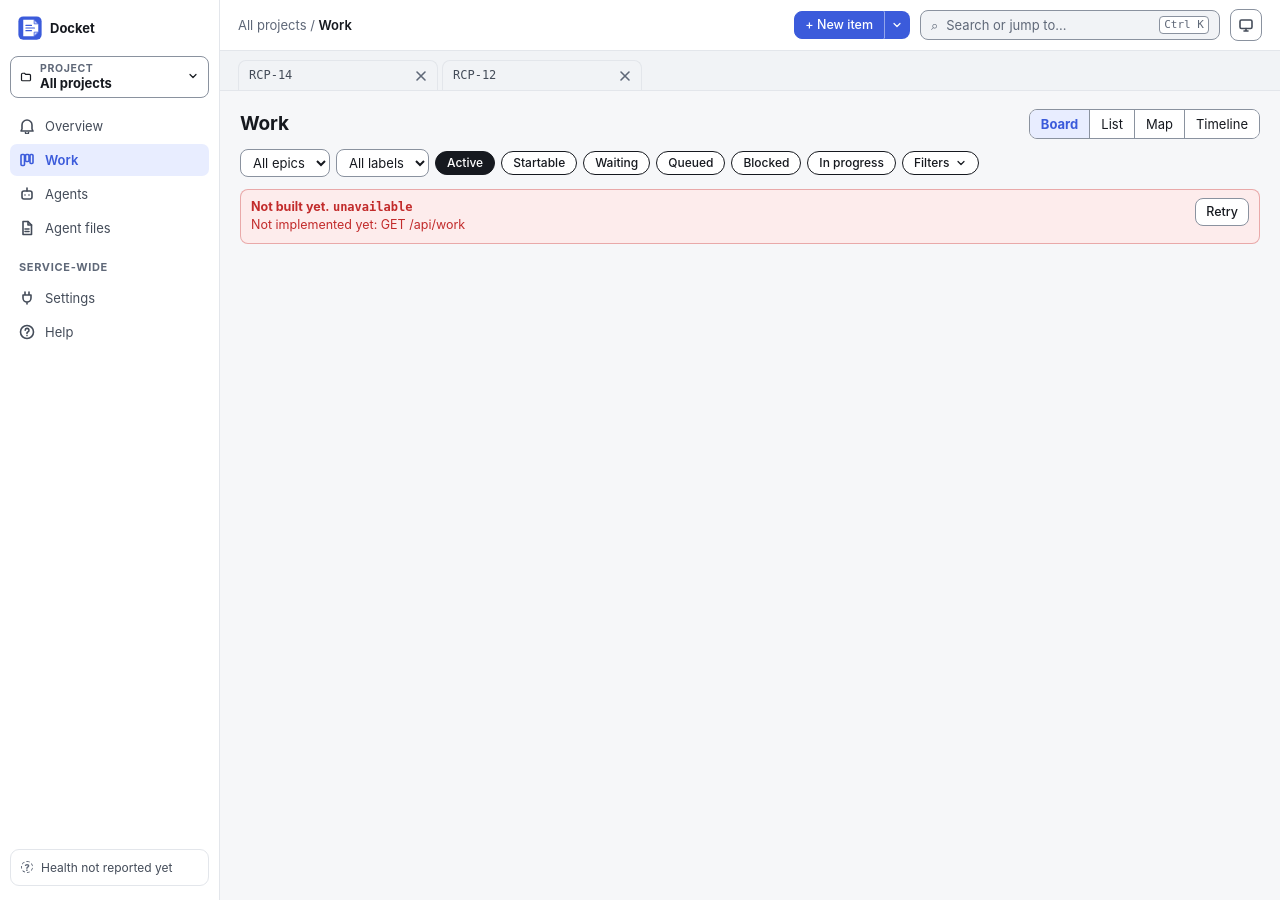
Test: app shell › opens an item tab per visited item and remembers its view tab
Earlier steps of the test are not shown.
Click the button named "Close RCP-12" at (625, 76), box left=611, top=62, right=639, bottom=90
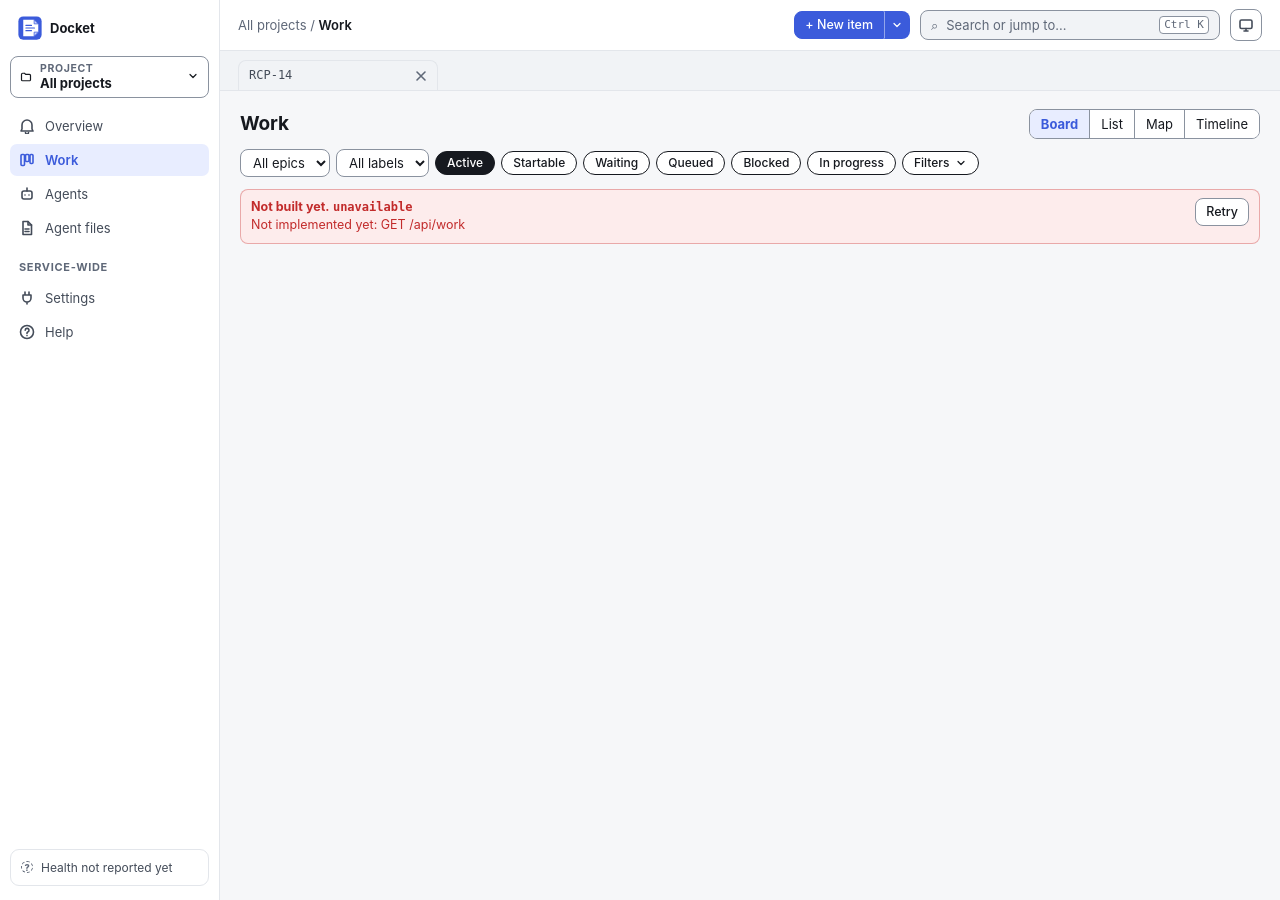
Expected: the link "RCP-12" is gone
